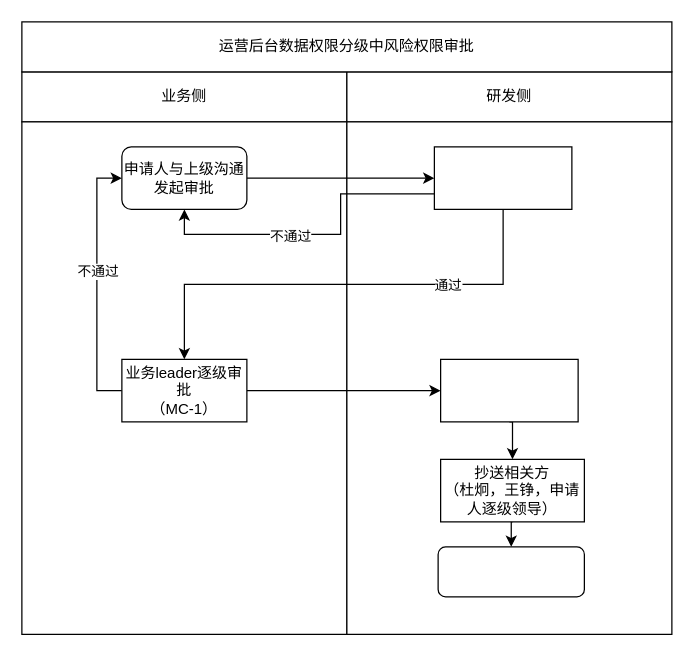
Some shapes in this 694 by 656 pixel diagram are drawn without their labels. The centre of each missing label's shape, as x and y in pixels:
安全团队判断风险并审批: the point at 502,177
流程结束: the point at 510,571
运营后台数据权限开通: the point at 508,390
